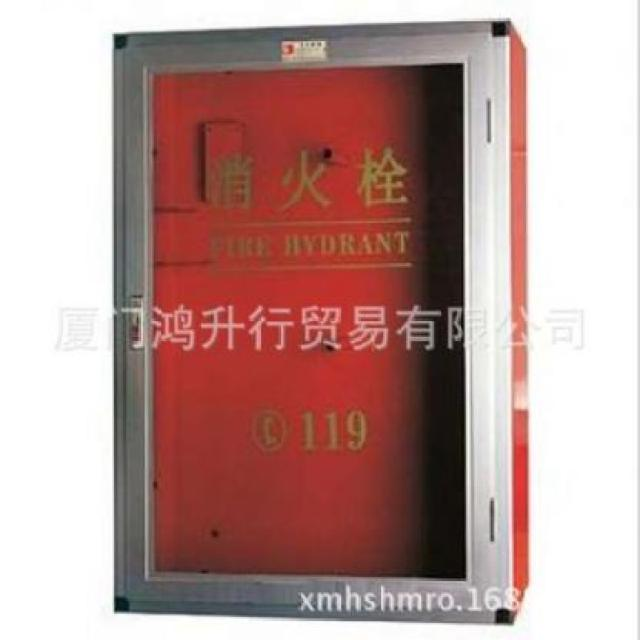firehydrant: (106, 11, 536, 630)
